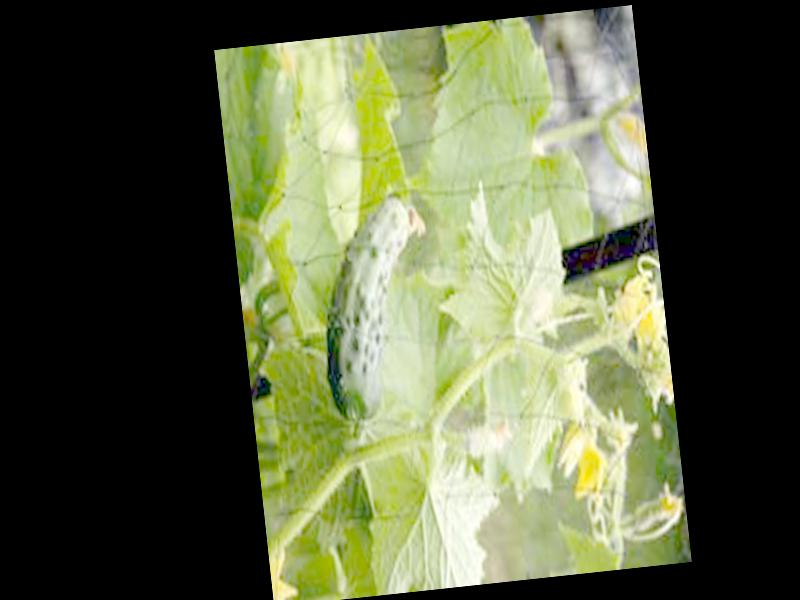Cucumber: (309, 191, 446, 428)
